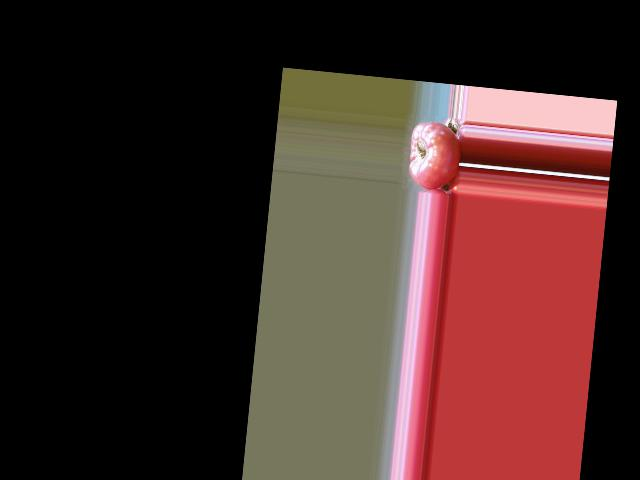tomato: (406, 120, 463, 193)
